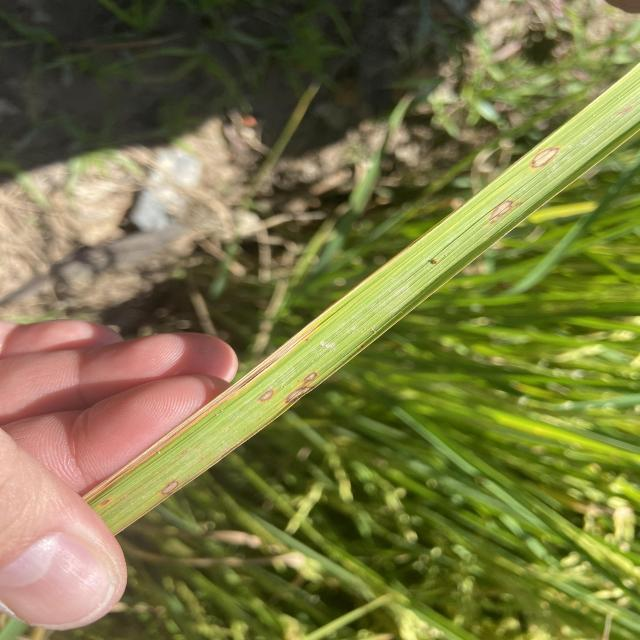Dao on: (532, 147, 559, 167), (285, 387, 312, 404), (489, 201, 513, 220), (162, 481, 178, 494), (258, 390, 274, 401), (303, 372, 317, 382)
